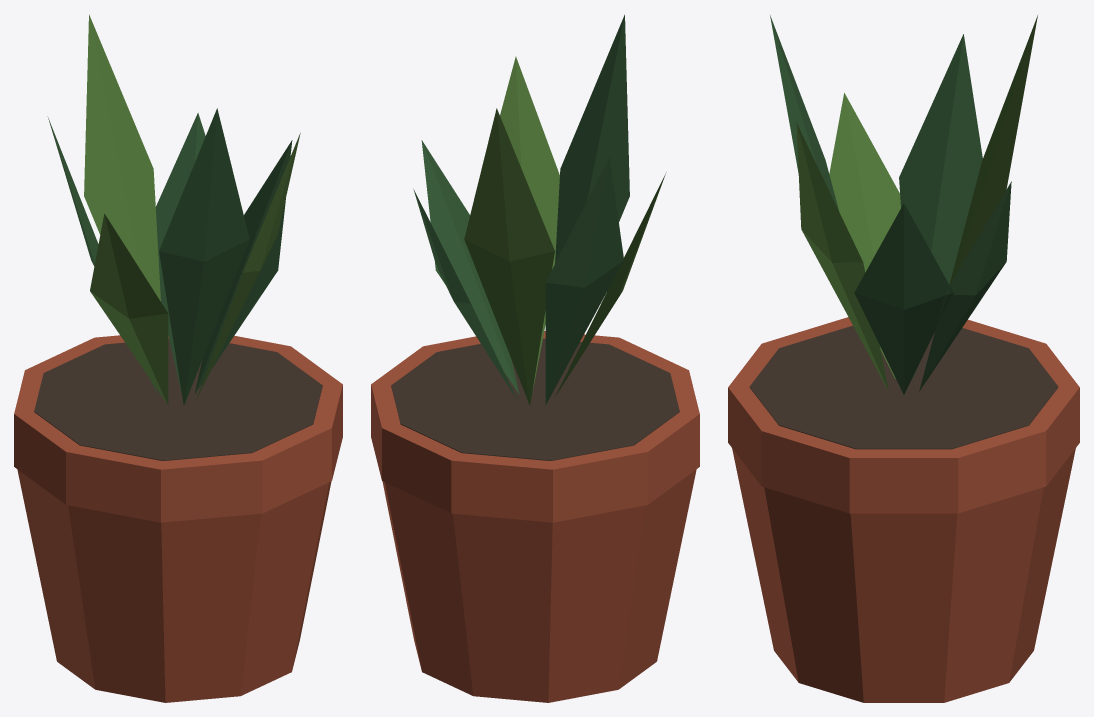
File: planter.glb
The picture shows the model from 3 angles, left to right: view 1: azimuth 30°, elevation 25°; view 2: azimuth 150°, elevation 25°; view 3: azimuth 270°, elevation 25°; orthographic projection. The views are drawn at different scales.
Visible parts, largest first — view 1: Alfa_planter; view 2: Alfa_planter; view 3: Alfa_planter.
Part boxes in pixels (<box>): Alfa_planter: <box>14,14,342,702</box>; Alfa_planter: <box>371,14,699,702</box>; Alfa_planter: <box>728,15,1079,702</box>.
Bounding box in the file's own units: 0.4375 × 0.9 × 0.46.
